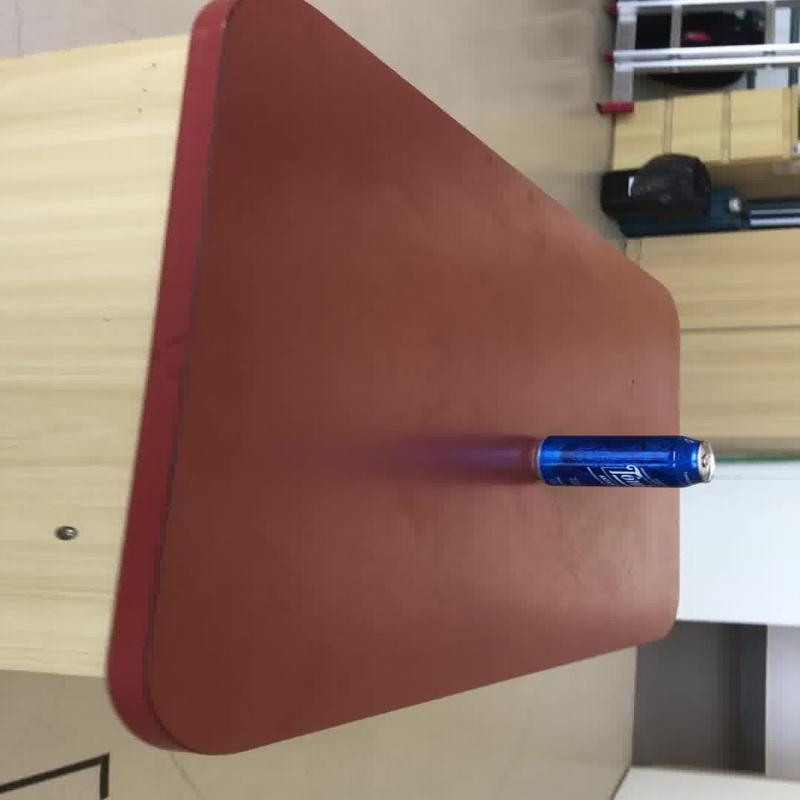tonic: (390, 433, 716, 488), (530, 433, 714, 488)
